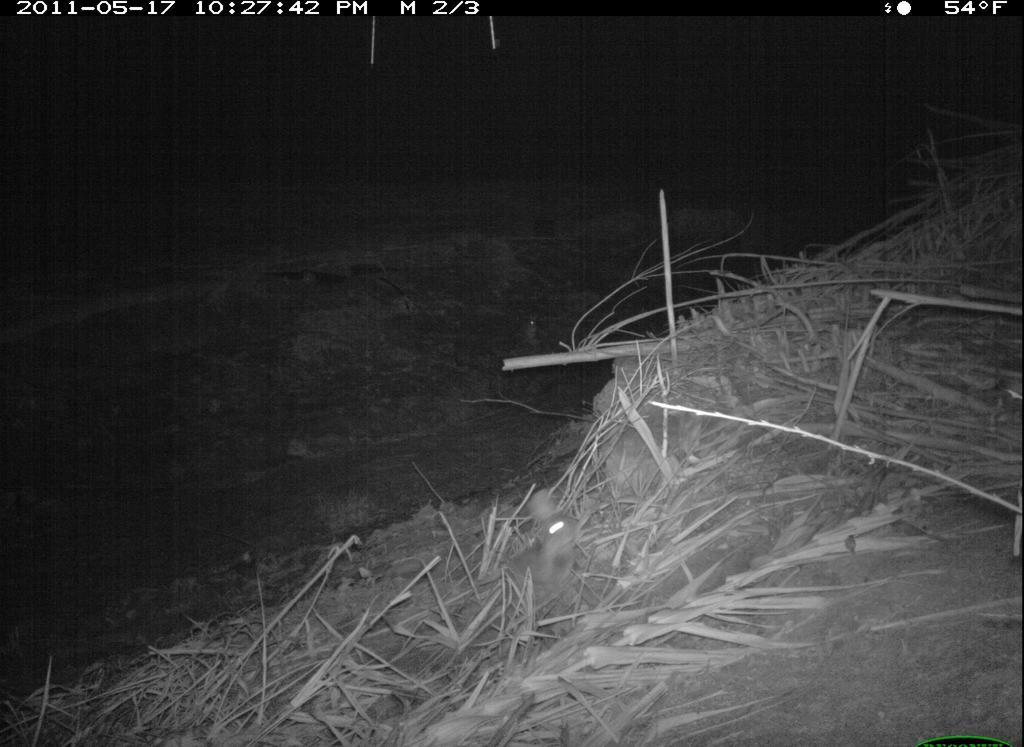rabbit: (498, 486, 581, 619), (520, 307, 544, 350)
